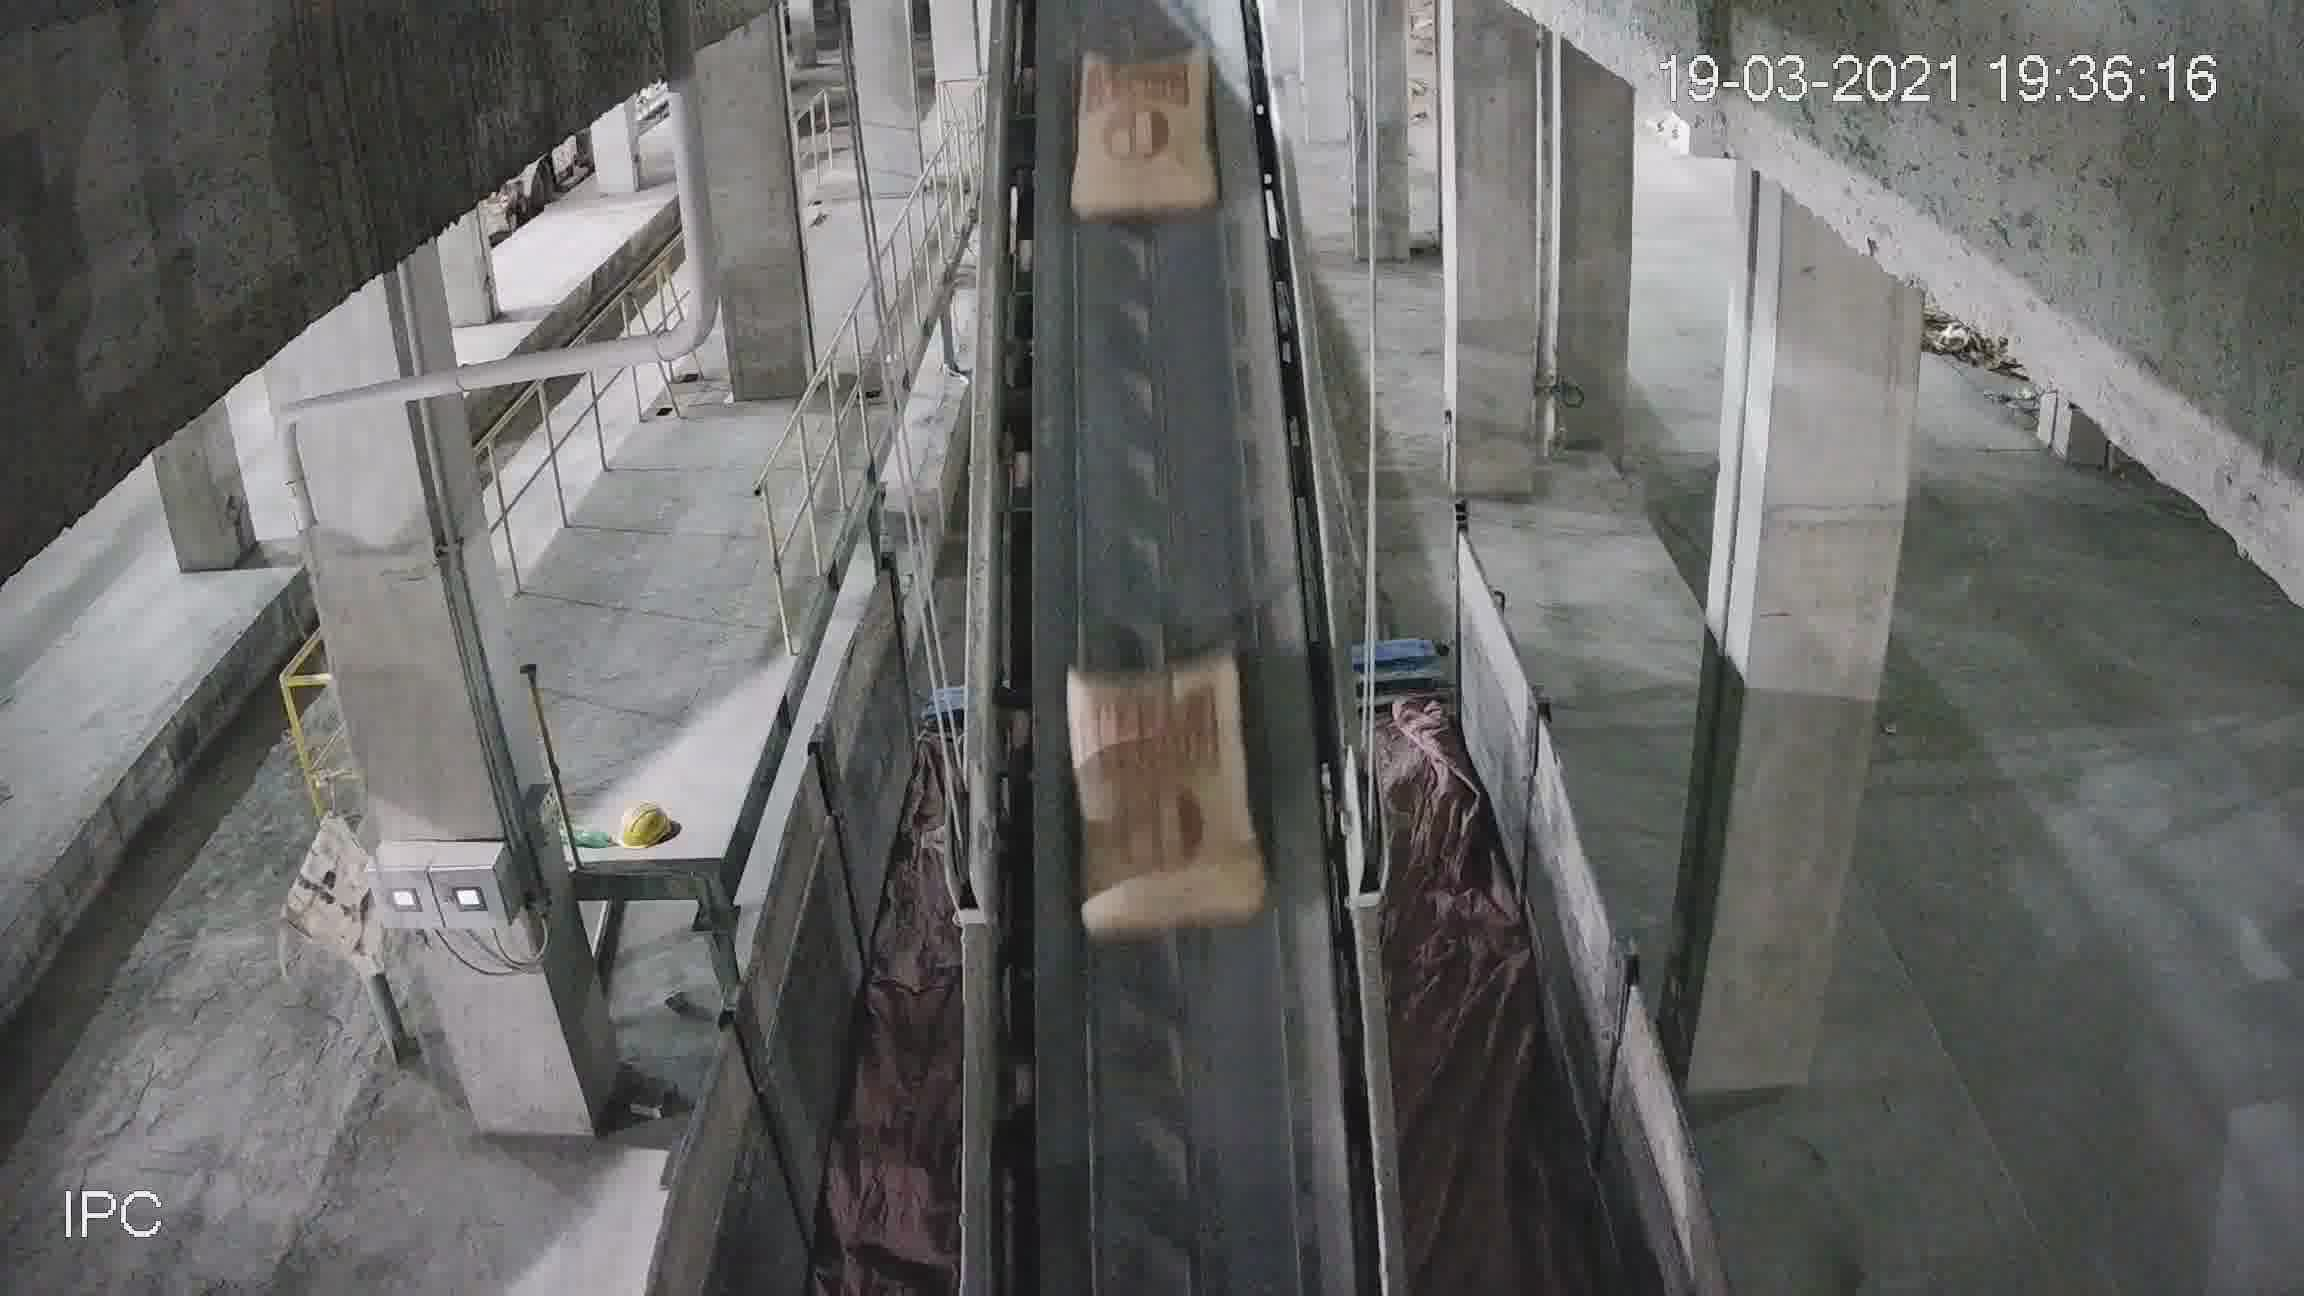bag: (1071, 661, 1260, 924), (1070, 57, 1218, 217)
belt: (967, 66, 1366, 1198)
